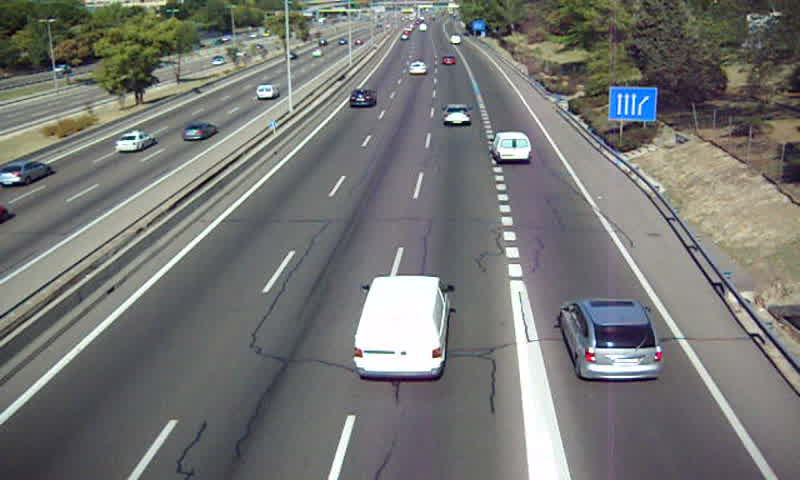car: (561, 298, 666, 380), (441, 102, 474, 126), (348, 88, 376, 108), (409, 59, 428, 76), (441, 54, 458, 67)
van: (355, 276, 450, 381), (493, 132, 532, 163)
